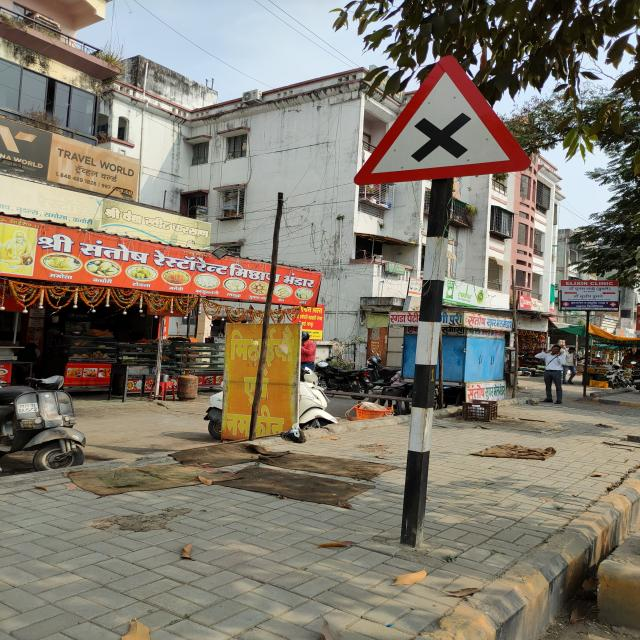CROSS_ROAD: (347, 49, 533, 189)
